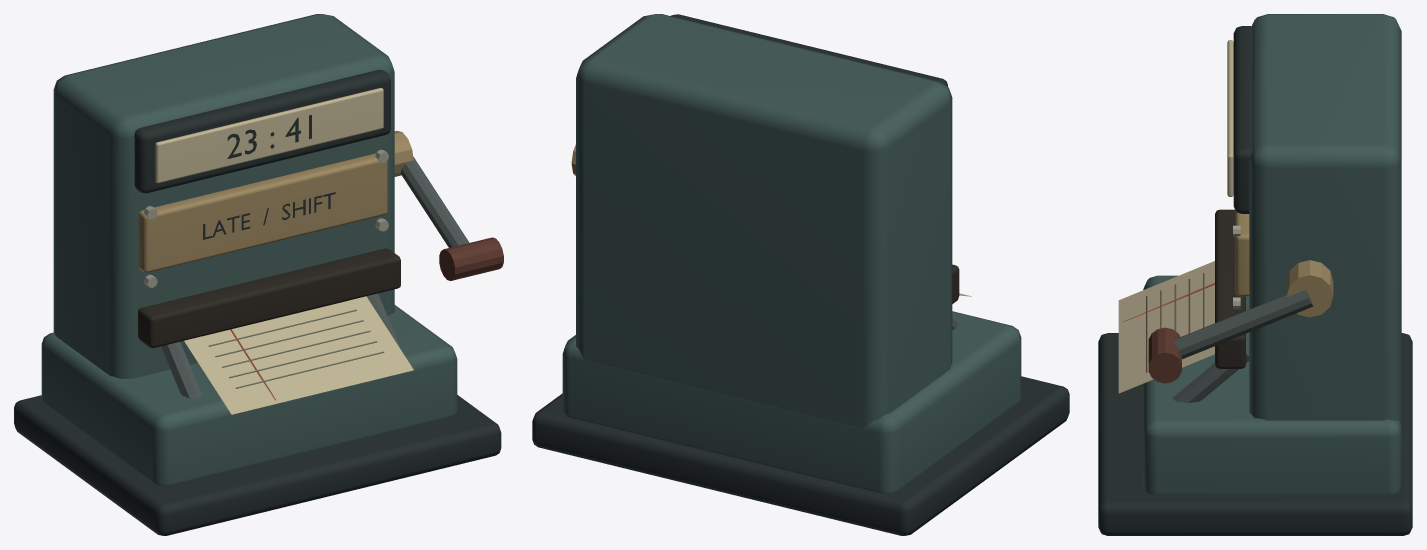
Rendered from station-timeclock.glb.
3 renders of one model, left to right at view 1: azimuth 30°, elevation 25°; view 2: azimuth 150°, elevation 25°; view 3: azimuth 270°, elevation 25°, orthographic. The views are drawn at different scales.
Parts seen in each view (by area): view 1: Housing, Mechanism; view 2: Housing; view 3: Housing, Mechanism.
Part boxes in pixels (x1,y1,x2,y2): Housing: (14,14,503,535); Mechanism: (184,296,413,414); Housing: (532,14,1069,535); Housing: (1098,14,1412,535); Mechanism: (1118,261,1214,393).
Bounding box in the file's own units: 0.286 × 0.264 × 0.202.
